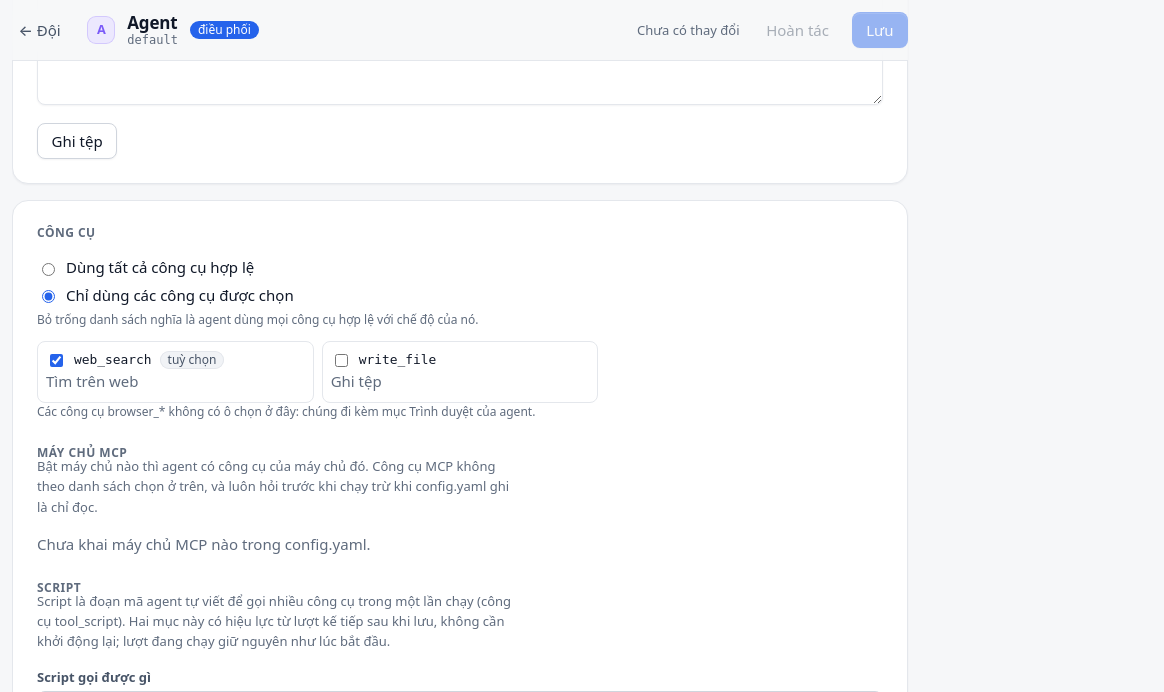
Scenario: the allow-list an agent's file writes › has nothing to save after a tick is taken back
(page scrolled)
Click the checkbox labelled "write_file".
click(341, 360)  # box 335,354 -> 348,367
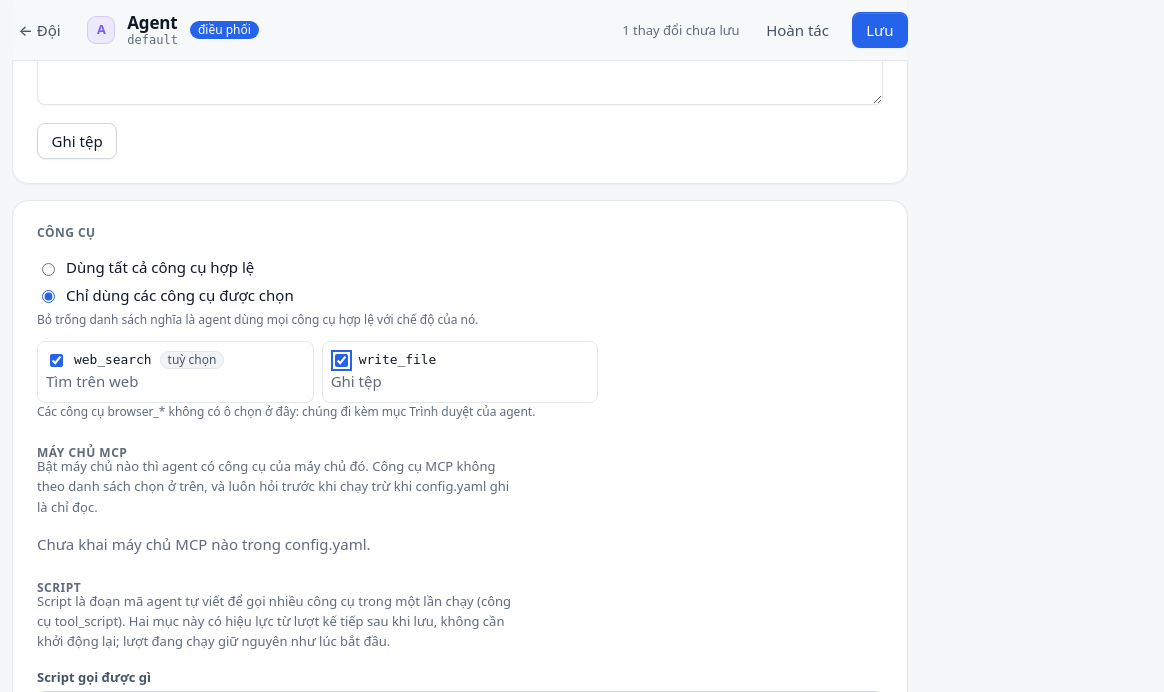
Click the checkbox labelled "write_file".
click(341, 360)  # box 335,354 -> 348,367
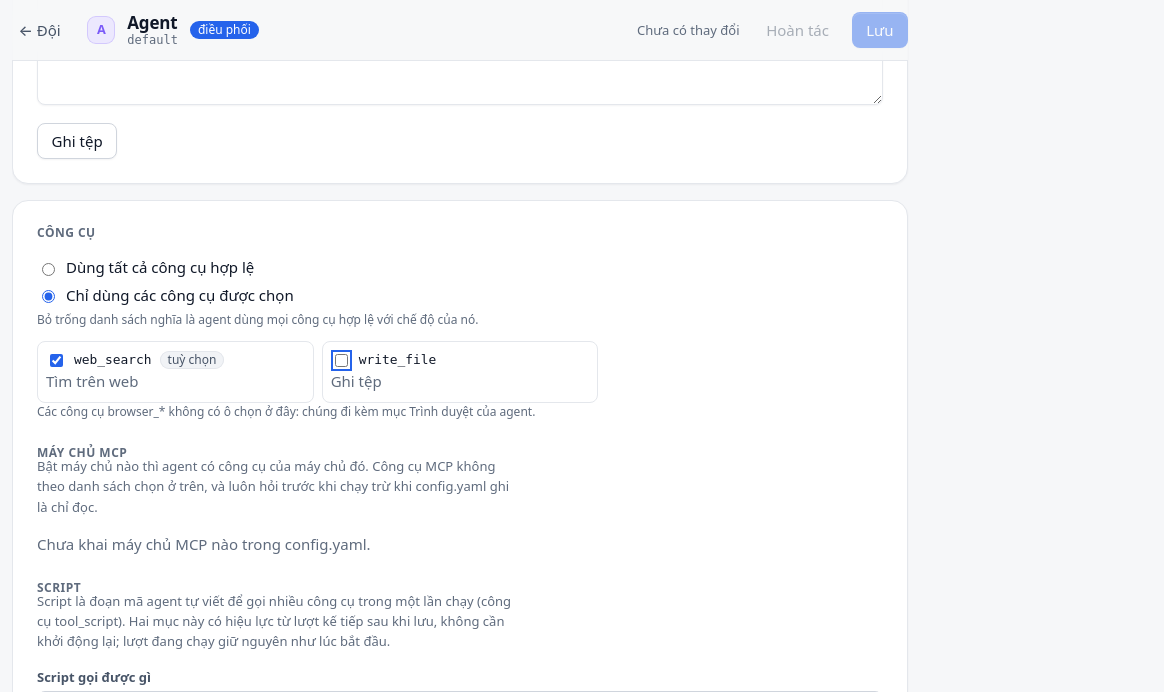
Expected: the text "Chưa có thay đổi" is shown, 637,20 -> 740,40
